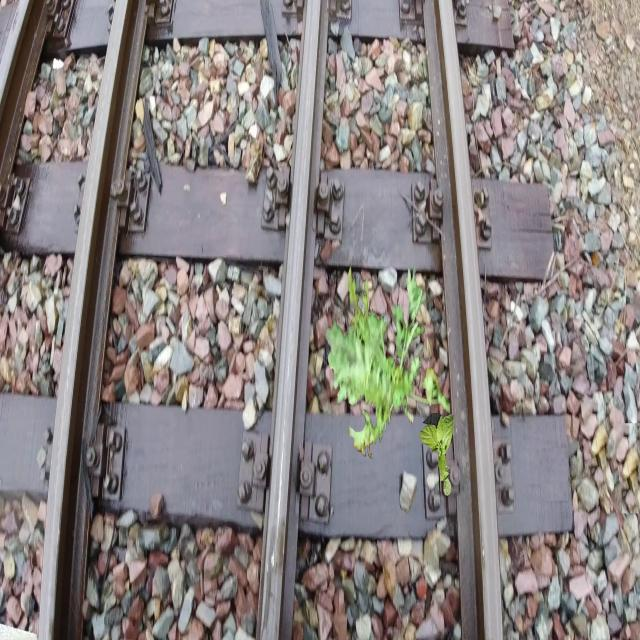Plant: (326, 263, 451, 459), (419, 412, 454, 496)
